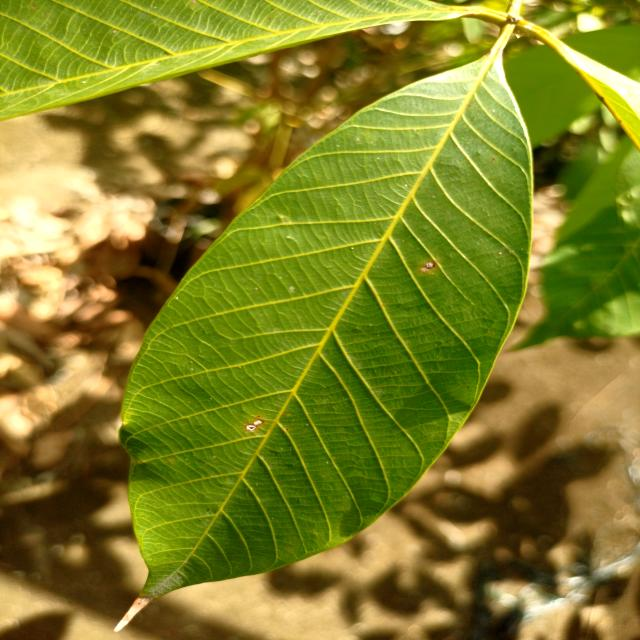Colletotrichum: (245, 424, 258, 431), (426, 261, 435, 269), (253, 420, 265, 426)
Leaf-Blight: (114, 596, 152, 632)
